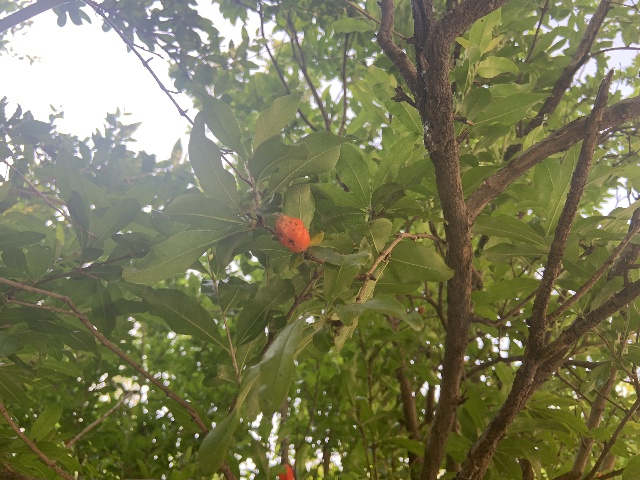bud: (274, 215, 309, 253)
